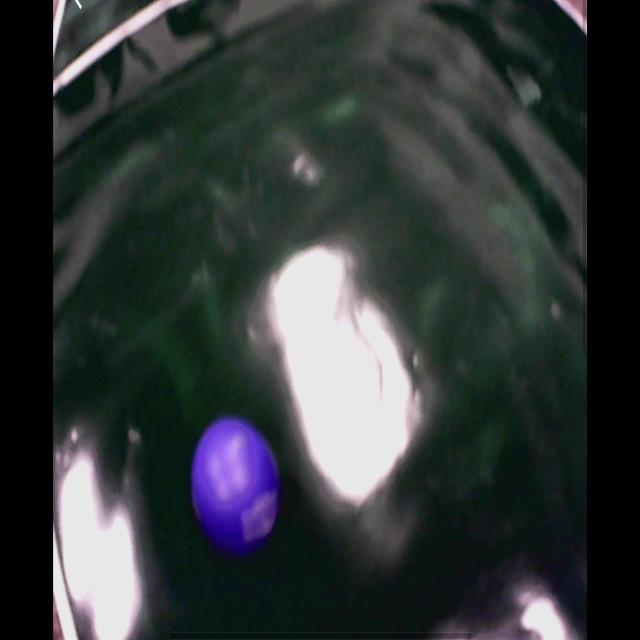ball: (193, 409, 279, 553)
